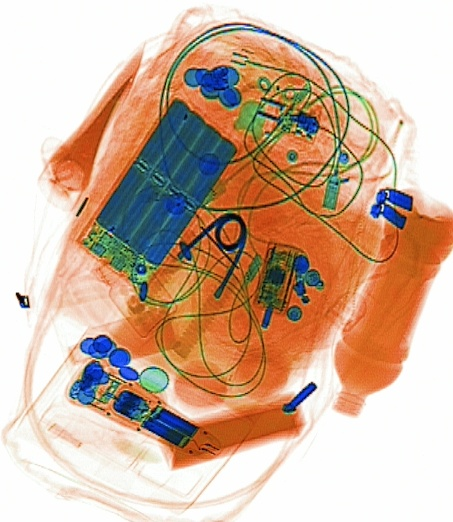powerbank: (74, 94, 242, 290)
